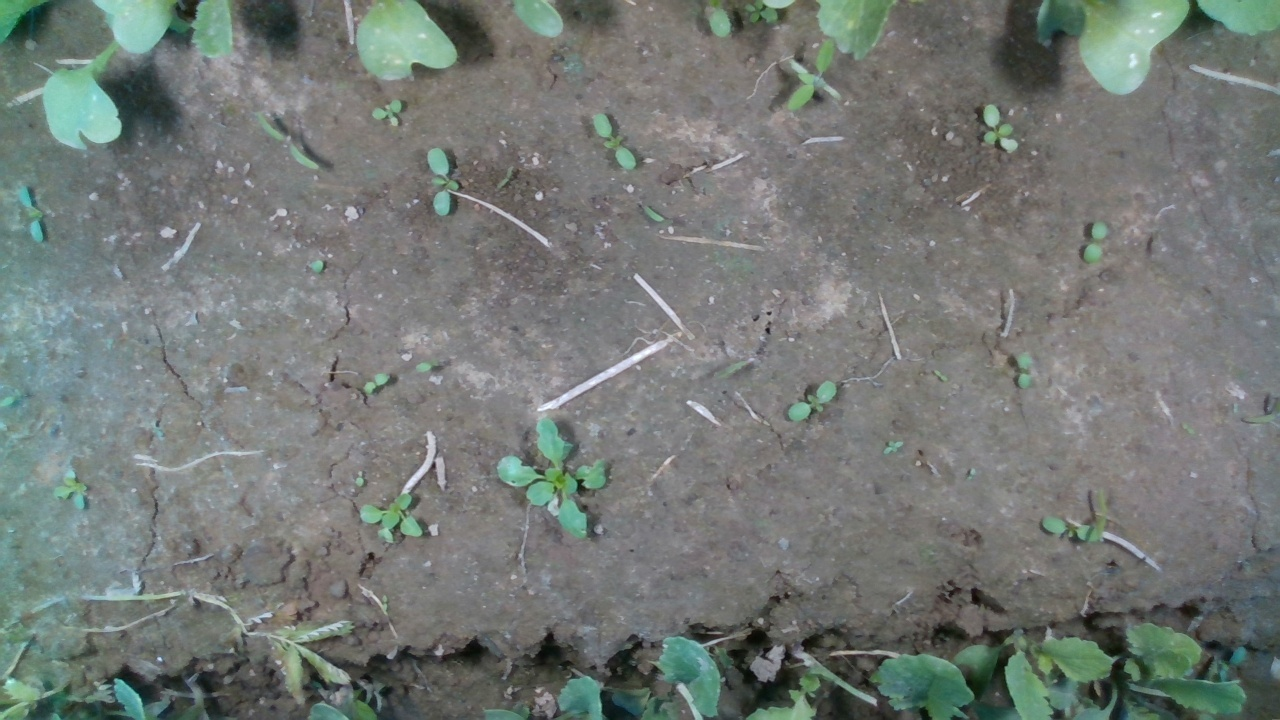weed: (254, 110, 322, 171), (784, 37, 836, 111), (424, 146, 461, 216), (591, 113, 636, 170), (786, 379, 838, 422), (982, 103, 1019, 156), (16, 184, 46, 246), (50, 468, 88, 511), (1080, 220, 1109, 264), (369, 96, 405, 130), (361, 371, 390, 395), (1017, 352, 1030, 390), (881, 437, 904, 456), (931, 369, 949, 384)
